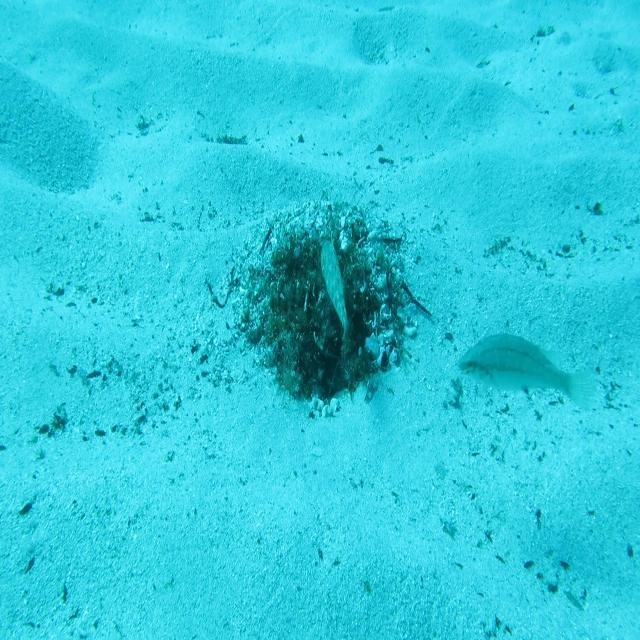BK_SW: (318, 233, 354, 348)
core_nest: (299, 232, 354, 288)
female: (454, 328, 604, 422)
nest: (223, 183, 437, 425)
